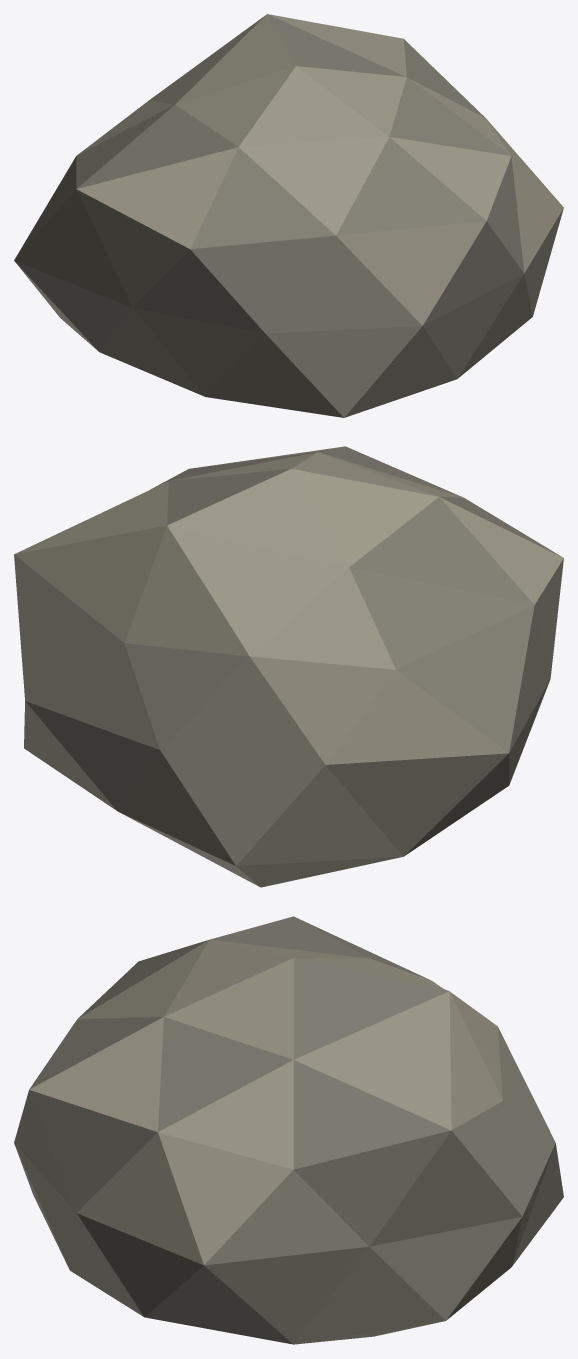
File: rock_small.glb
3 views of the same model, one above another, from view 1: azimuth 30°, elevation 25°; view 2: azimuth 150°, elevation 25°; view 3: azimuth 270°, elevation 25° (orthographic). The views are drawn at different scales.
Visible parts, largest first — view 1: rock_small; view 2: rock_small; view 3: rock_small.
Part boxes in pixels (x1,y1,x2,y2): rock_small: (14,14,563,417); rock_small: (14,446,563,887); rock_small: (14,916,563,1344).
Size of the model in its own units: 1.22 by 0.8248 by 1.13.
